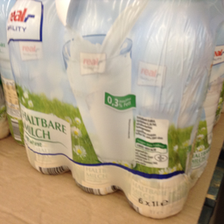milk: (128, 1, 201, 219), (69, 1, 127, 195), (8, 5, 70, 178)
